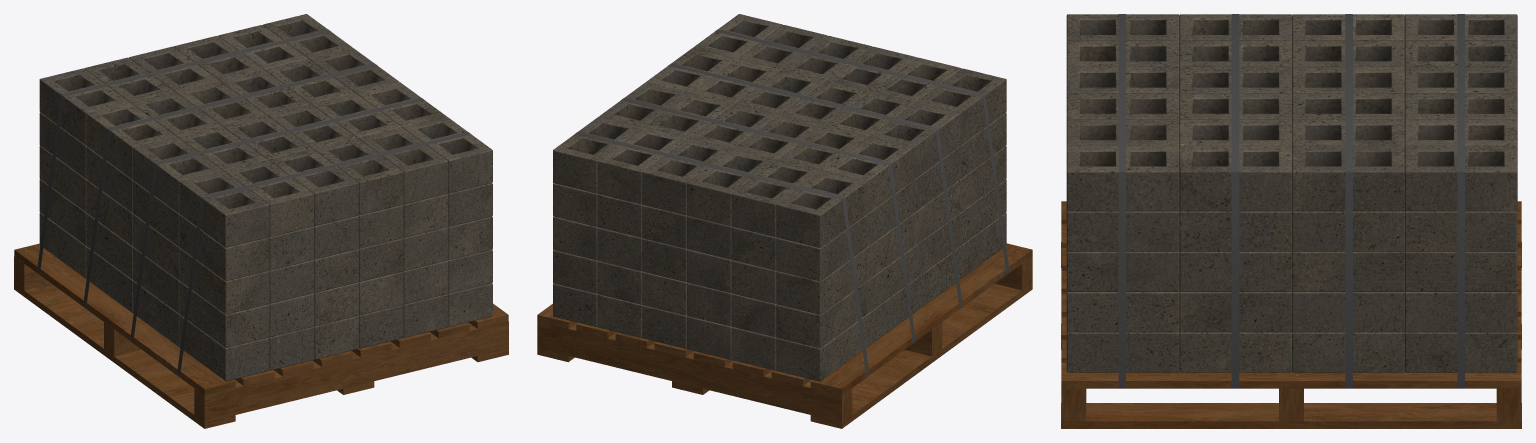
Rendered from Sketchfab_Scene.glb.
3 renders of one model, left to right at view 1: azimuth 30°, elevation 25°; view 2: azimuth 150°, elevation 25°; view 3: azimuth 270°, elevation 25°, orthographic. The views are drawn at different scales.
Parts seen in each view (by area): view 1: Object_2, Object_3, Object_4; view 2: Object_2, Object_3, Object_4; view 3: Object_2, Object_3, Object_4.
Boxes of the visible parts, x1=… form: Object_2: x1=39, y1=14, x2=492, y2=381; Object_3: x1=14, y1=243, x2=508, y2=428; Object_4: x1=37, y1=29, x2=470, y2=377; Object_2: x1=553, y1=14, x2=1006, y2=381; Object_3: x1=537, y1=243, x2=1032, y2=428; Object_4: x1=575, y1=29, x2=1008, y2=377; Object_2: x1=1066, y1=14, x2=1517, y2=372; Object_3: x1=1061, y1=201, x2=1521, y2=428; Object_4: x1=1118, y1=14, x2=1464, y2=388.
Size of the model in its own units: 3.9 by 2.53 by 4.23.
3 materials, 3 textured.
